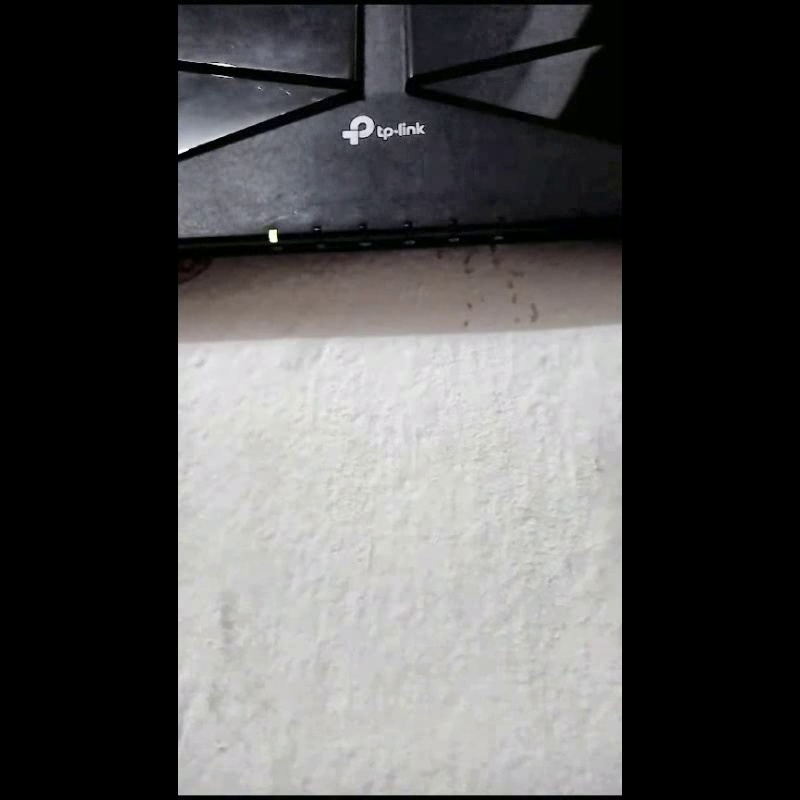off: (357, 220, 368, 239), (447, 217, 458, 235), (311, 224, 322, 241), (402, 220, 412, 237), (495, 214, 504, 232)
on_green: (267, 227, 278, 244)
